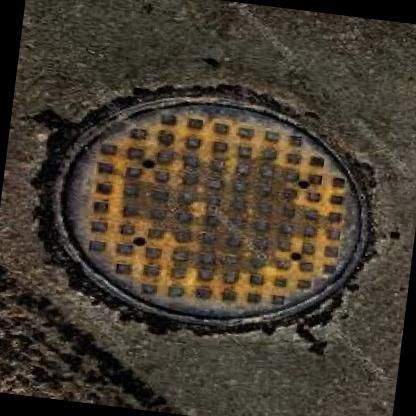manholes: (13, 53, 412, 373)
